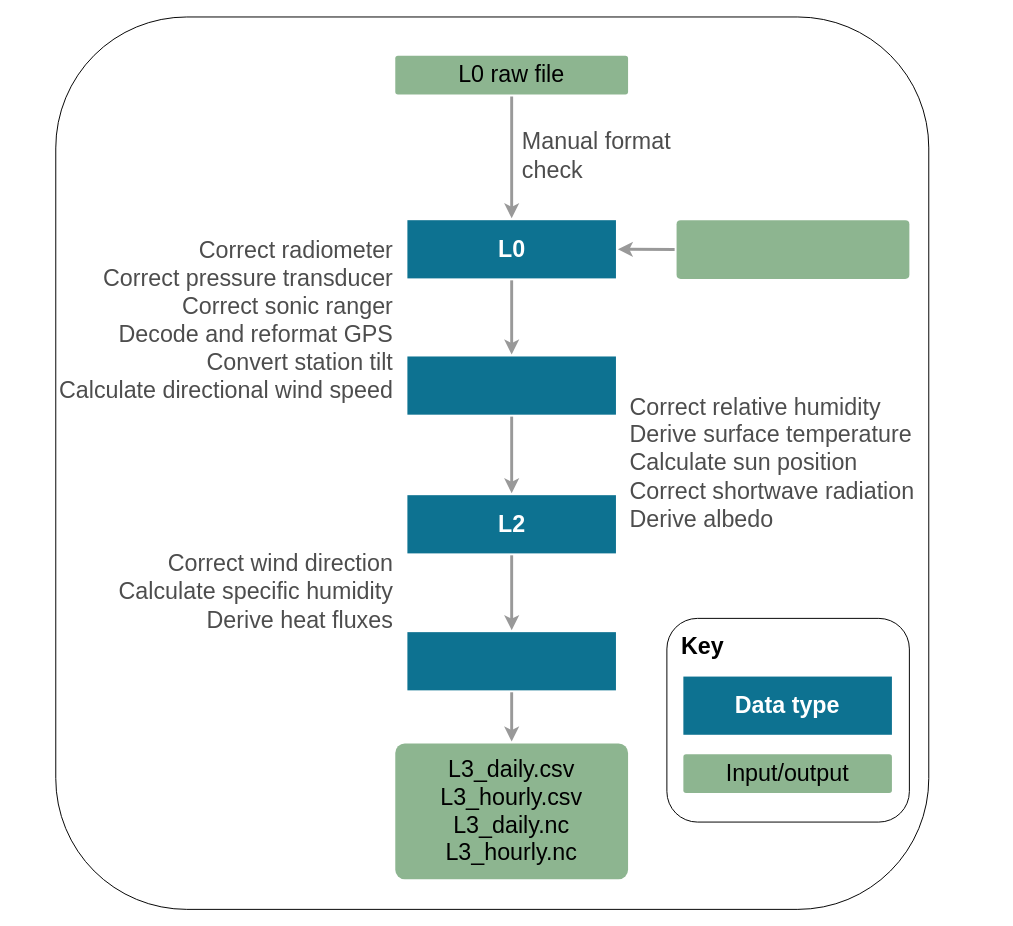
This 1013x926 diagram has some shape labels left out. The shapes that lost their labels are listed below. From the top down, each one's centre as x and y in pixels, then its label:
At point (792, 249): "Radiometer coefficients".
At point (511, 385): "L1".
At point (511, 661): "L3".
